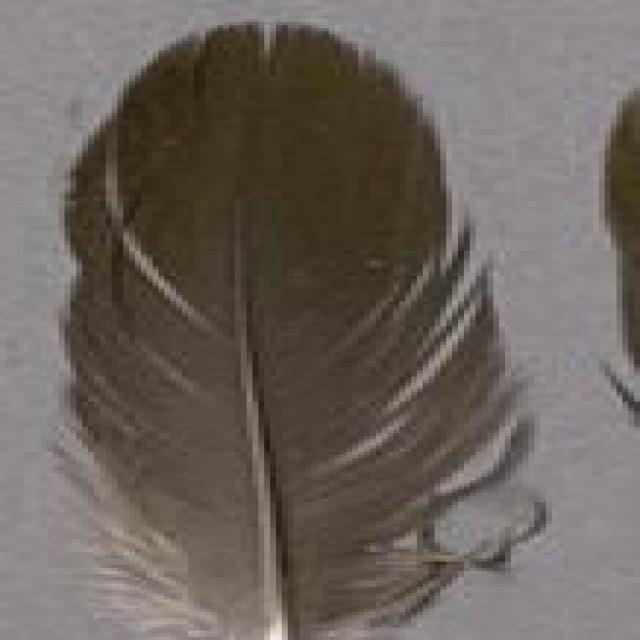feather: (41, 15, 566, 640)
